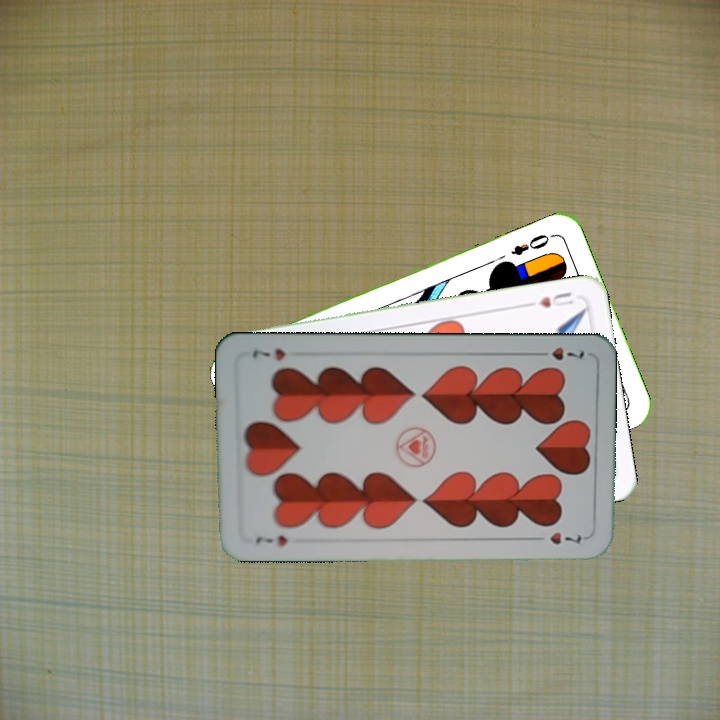EO: (507, 229, 557, 259)
H7: (531, 343, 587, 363), (252, 531, 291, 549)
HU: (522, 288, 576, 310)
